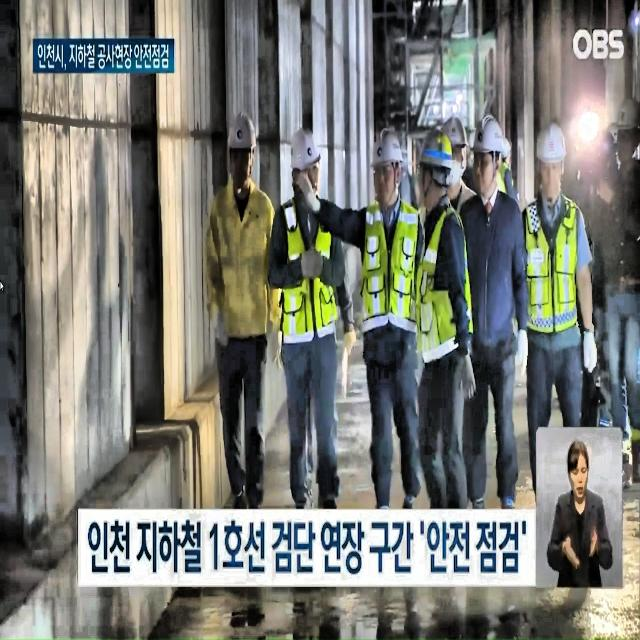safety_helmet: (472, 109, 509, 168), (536, 116, 567, 171), (418, 127, 452, 177), (292, 124, 322, 176), (441, 112, 473, 154), (372, 132, 403, 171), (229, 114, 255, 159)
safety_jacket: (277, 196, 340, 340), (413, 202, 468, 363), (524, 194, 581, 334), (363, 205, 420, 334)
